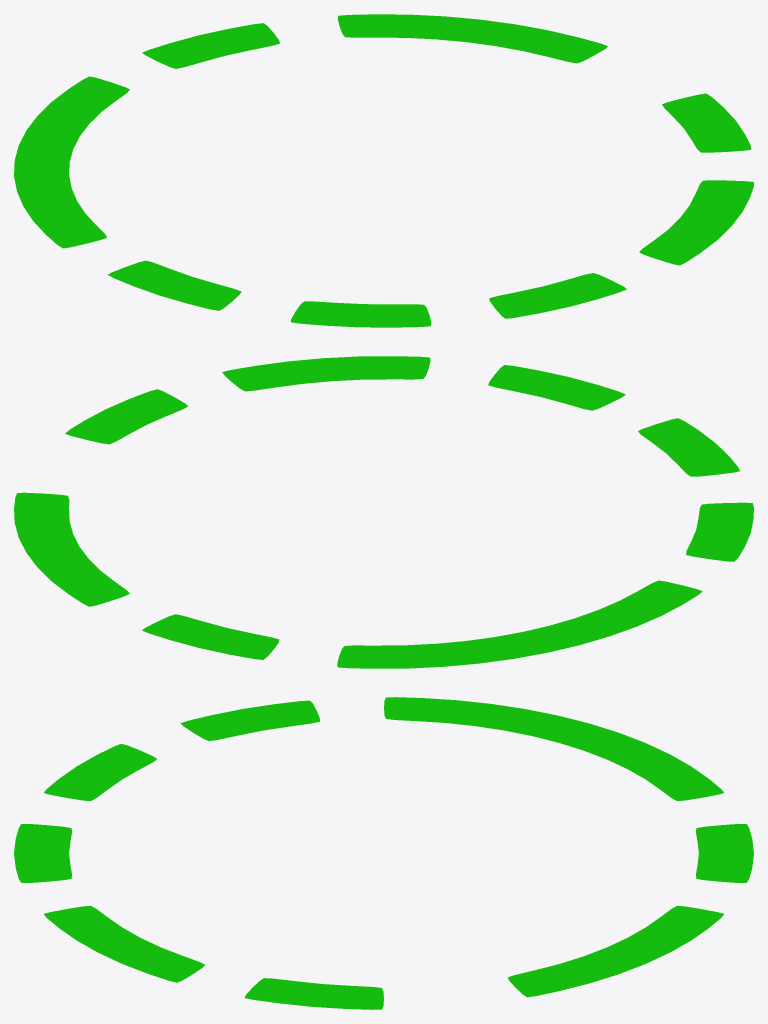
The model's file is Decal_Circle_A.fbx.
3 renders of one model, top to bottom at view 1: azimuth 30°, elevation 25°; view 2: azimuth 150°, elevation 25°; view 3: azimuth 270°, elevation 25°, orthographic.
Parts seen in each view (by area): view 1: Decal_Circle; view 2: Decal_Circle; view 3: Decal_Circle.
Part boxes in pixels (<box>): Decal_Circle: <box>14,14,753,327</box>; Decal_Circle: <box>14,356,753,668</box>; Decal_Circle: <box>14,697,753,1009</box>.
Bounding box in the file's own units: 999 × 0.000163 × 1000.
